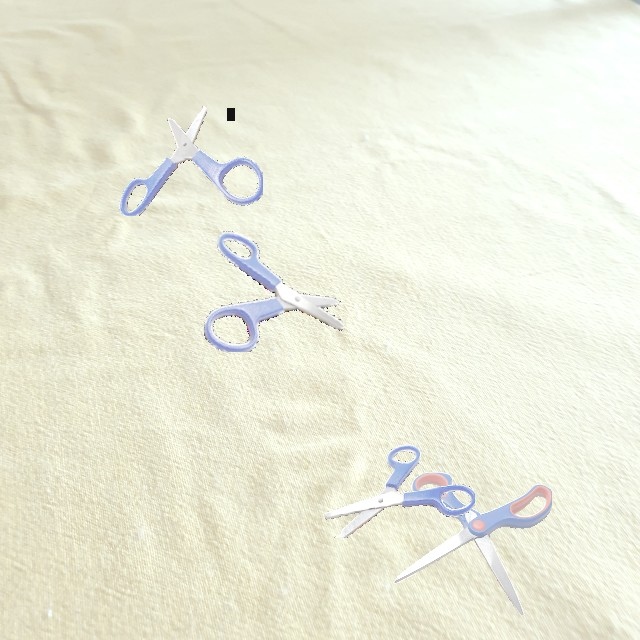scissors: (395, 472, 552, 615), (204, 231, 344, 352), (119, 106, 263, 216), (325, 444, 475, 538)
